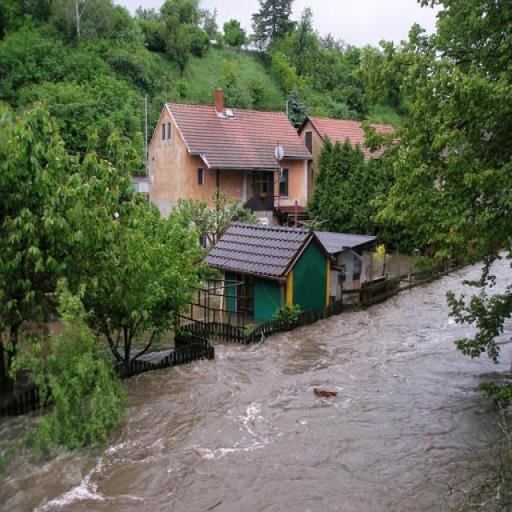flood: (0, 266, 512, 512)
house: (147, 100, 312, 214), (208, 220, 386, 318), (301, 114, 401, 168)
